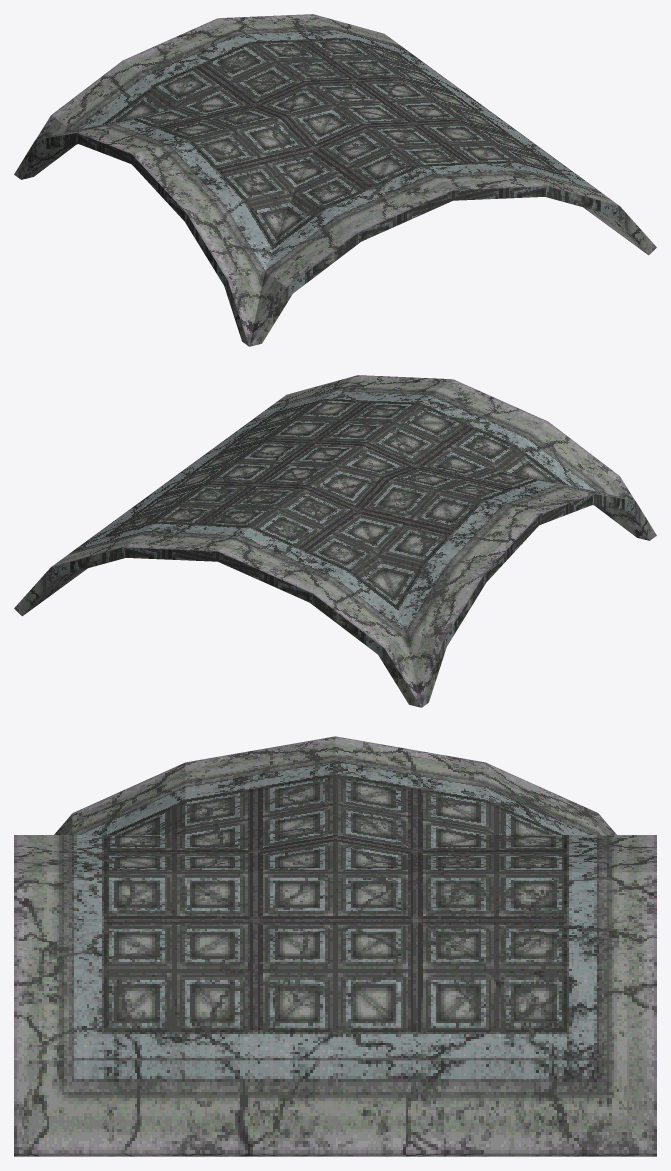
The model's file is roof_set2_02.gltf.
3 renders of one model, top to bottom at view 1: azimuth 30°, elevation 25°; view 2: azimuth 150°, elevation 25°; view 3: azimuth 270°, elevation 25°, orthographic. The views are drawn at different scales.
Visible parts, largest first — view 1: roof_set2_02; view 2: roof_set2_02; view 3: roof_set2_02.
Part boxes in pixels (x1,y1,x2,y2): roof_set2_02: (14,14,656,346); roof_set2_02: (14,375,656,707); roof_set2_02: (14,736,656,1156).
Bounding box in the file's own units: 4 × 1.06 × 4.
1 material, 1 textured.
